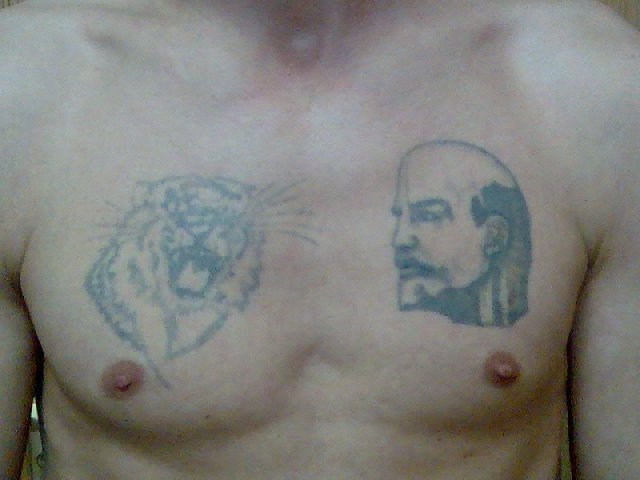tatu5_tigr: (80, 170, 322, 368)
